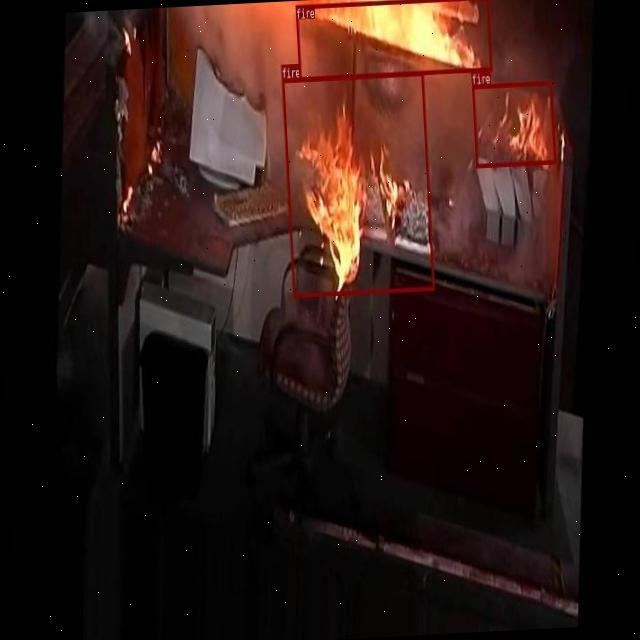fire: (282, 71, 434, 298), (295, 0, 492, 79), (472, 80, 556, 168)
